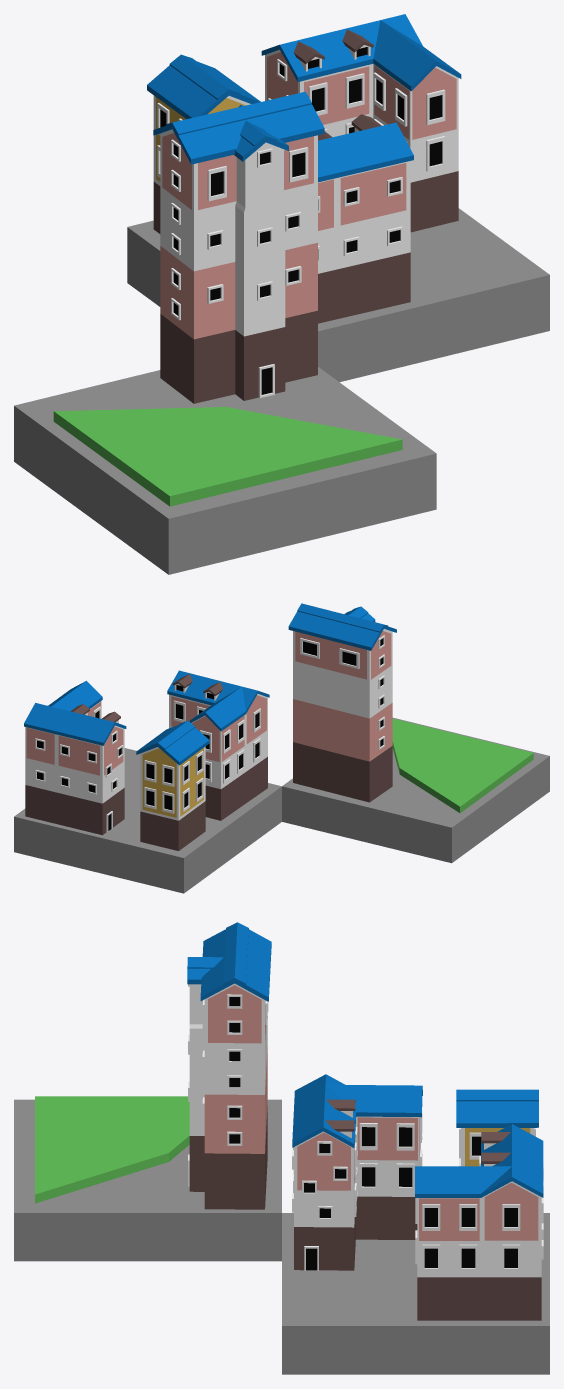
3 views of the same model, one above another, from view 1: azimuth 30°, elevation 25°; view 2: azimuth 150°, elevation 25°; view 3: azimuth 270°, elevation 25° (orthographic). The views are drawn at different scales.
Visible parts, largest first — view 1: Mesh_X_V3; view 2: Mesh_X_V3; view 3: Mesh_X_V3.
Boxes of the visible parts, bbox=[...] form: Mesh_X_V3: bbox=[14, 14, 549, 574]; Mesh_X_V3: bbox=[14, 603, 549, 893]; Mesh_X_V3: bbox=[14, 922, 549, 1374].
Bounding box in the file's own units: 200 × 116 × 200.
